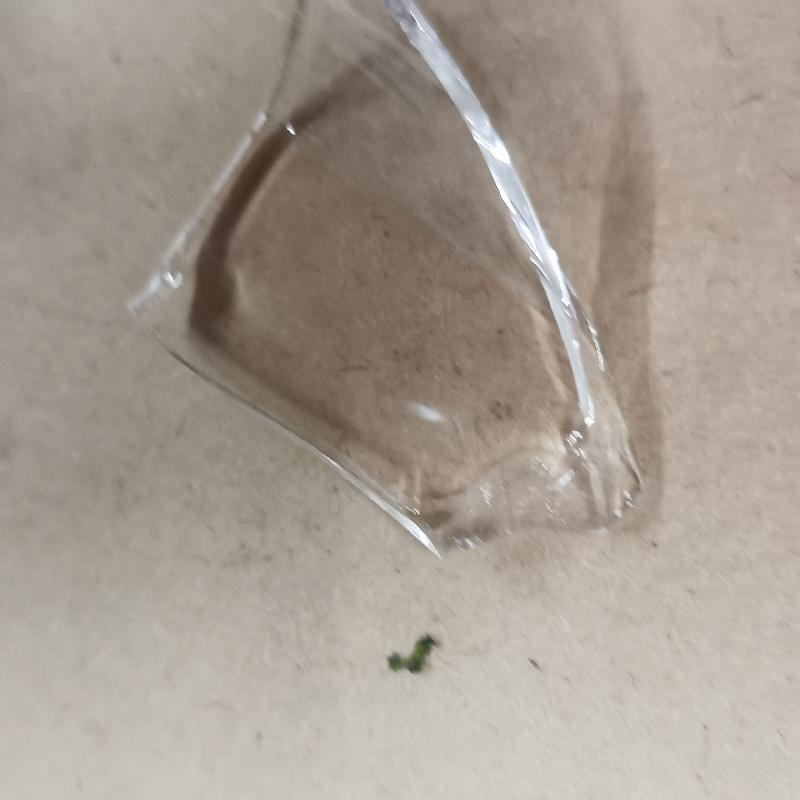glass: (122, 1, 643, 556)
